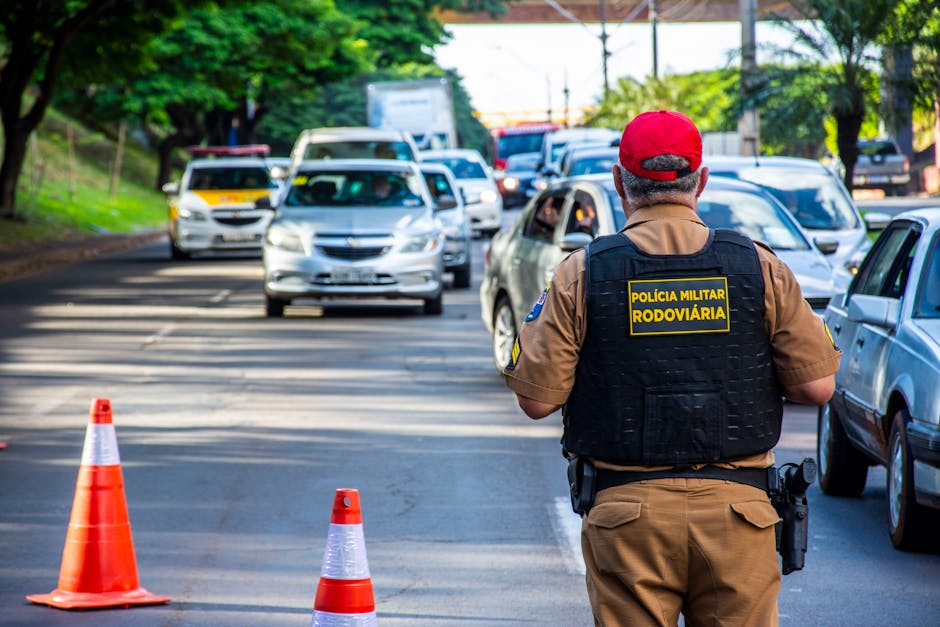traffic_cone: (25, 397, 171, 611), (310, 487, 378, 626)
